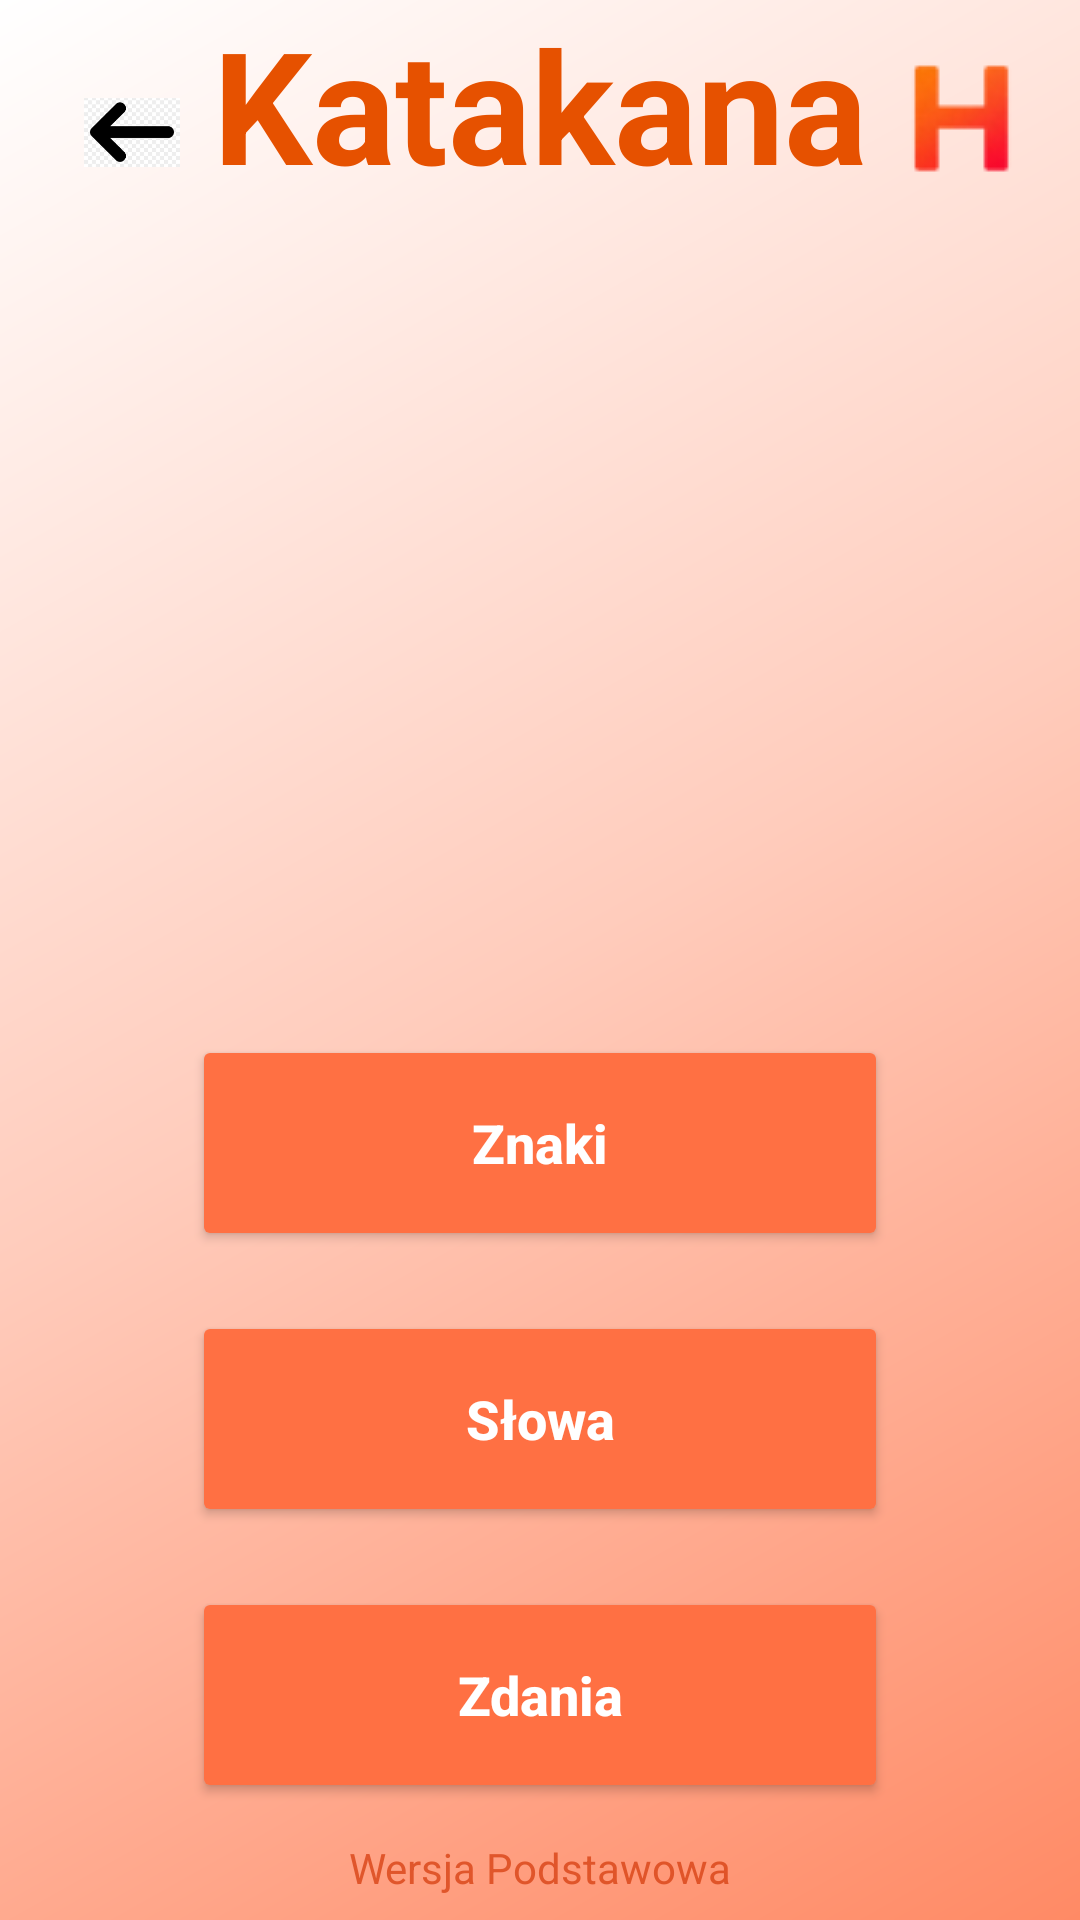

Named icons in this screenshot (1080px×1920px) and their centers, point (x, y):
hzdjecienormalne: point (961, 118)
